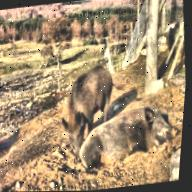boar: (79, 90, 185, 171), (51, 43, 133, 145)
